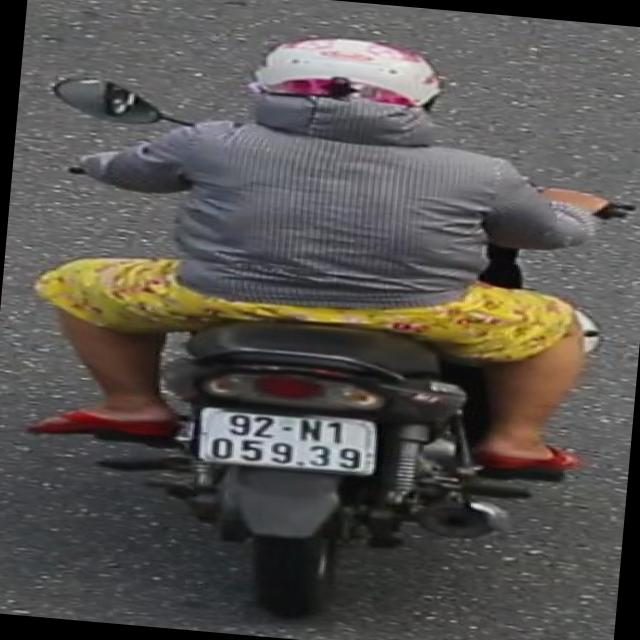LP: (190, 395, 390, 480)
helmet: (248, 28, 450, 116)
